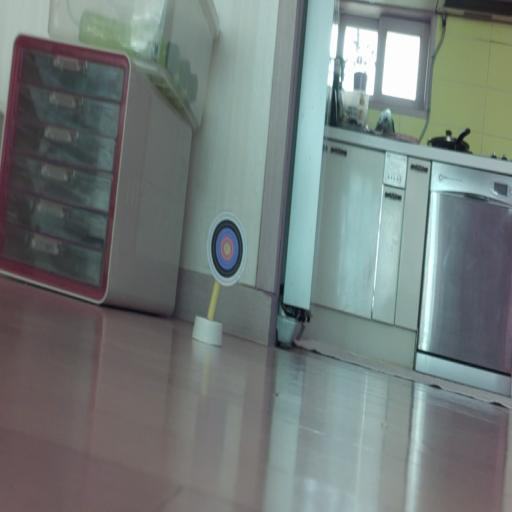target: (207, 211, 247, 286)
